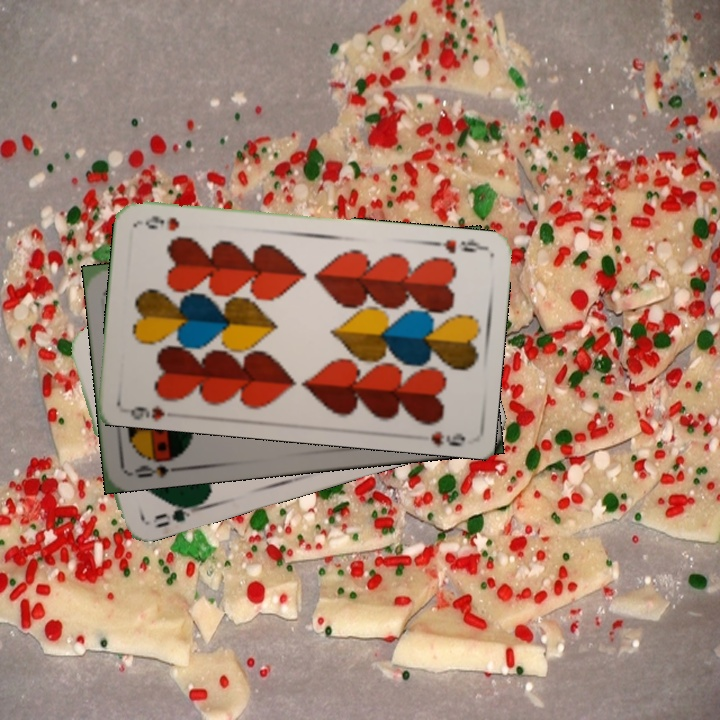GO: (149, 499, 203, 531)
H9: (428, 236, 487, 256), (126, 401, 167, 421)
SO: (130, 450, 187, 481)
